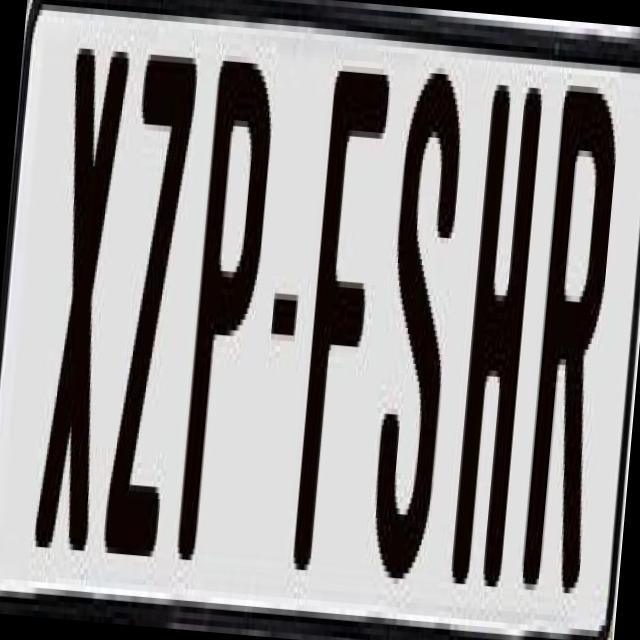F: (288, 65, 394, 580)
H: (446, 67, 546, 588)
P: (176, 42, 283, 558)
S: (368, 71, 477, 587)
X: (30, 41, 135, 556)
Z: (99, 53, 204, 558)
